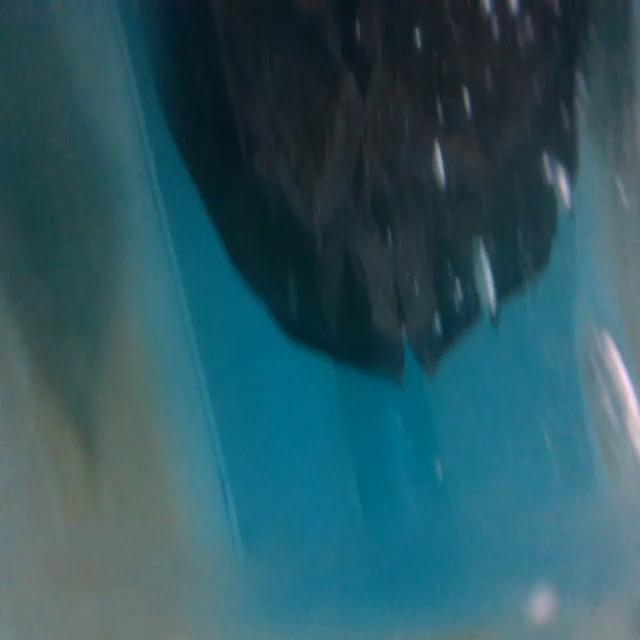plastic bags: (136, 0, 587, 387)
